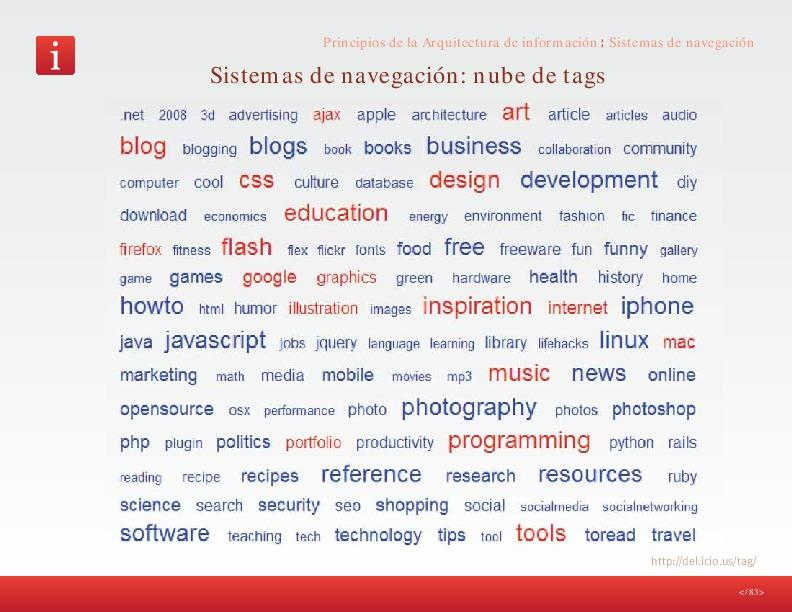paragraph: (117, 94, 716, 556)
subtitle: (203, 61, 613, 95)
title: (317, 27, 759, 56)
